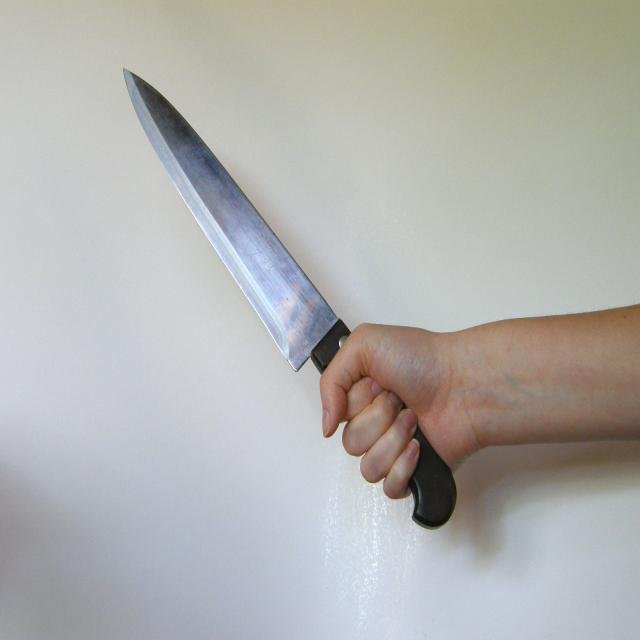knife: (120, 63, 459, 533)
